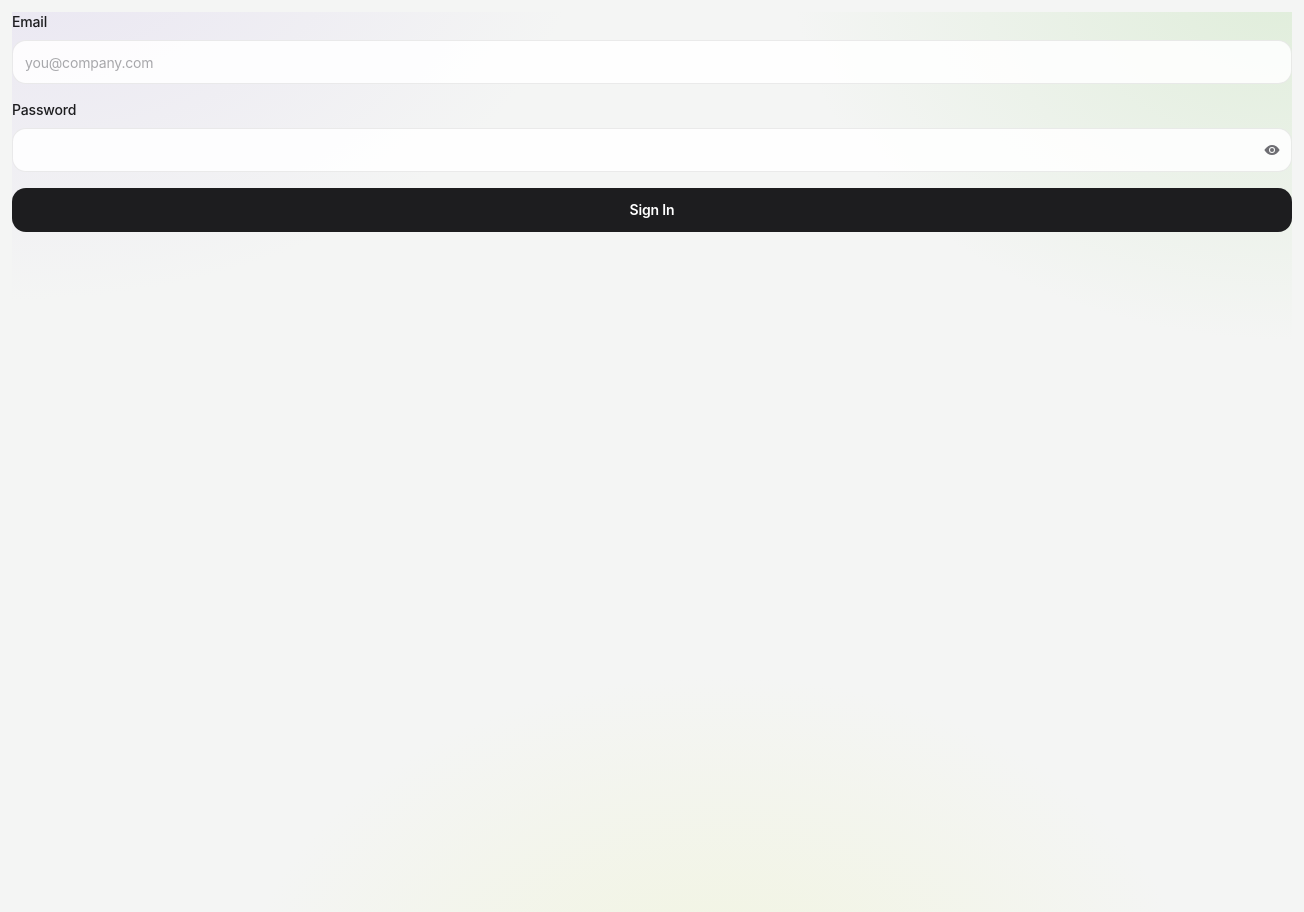
Scenario: LoginForm › signs in, stores the user in Redux and navigates to the dashboard
This screenshot has width=1304, height=912.
Type "a@b.com" into the field labelled "Email" at (652, 62), box [12, 40, 1292, 84]
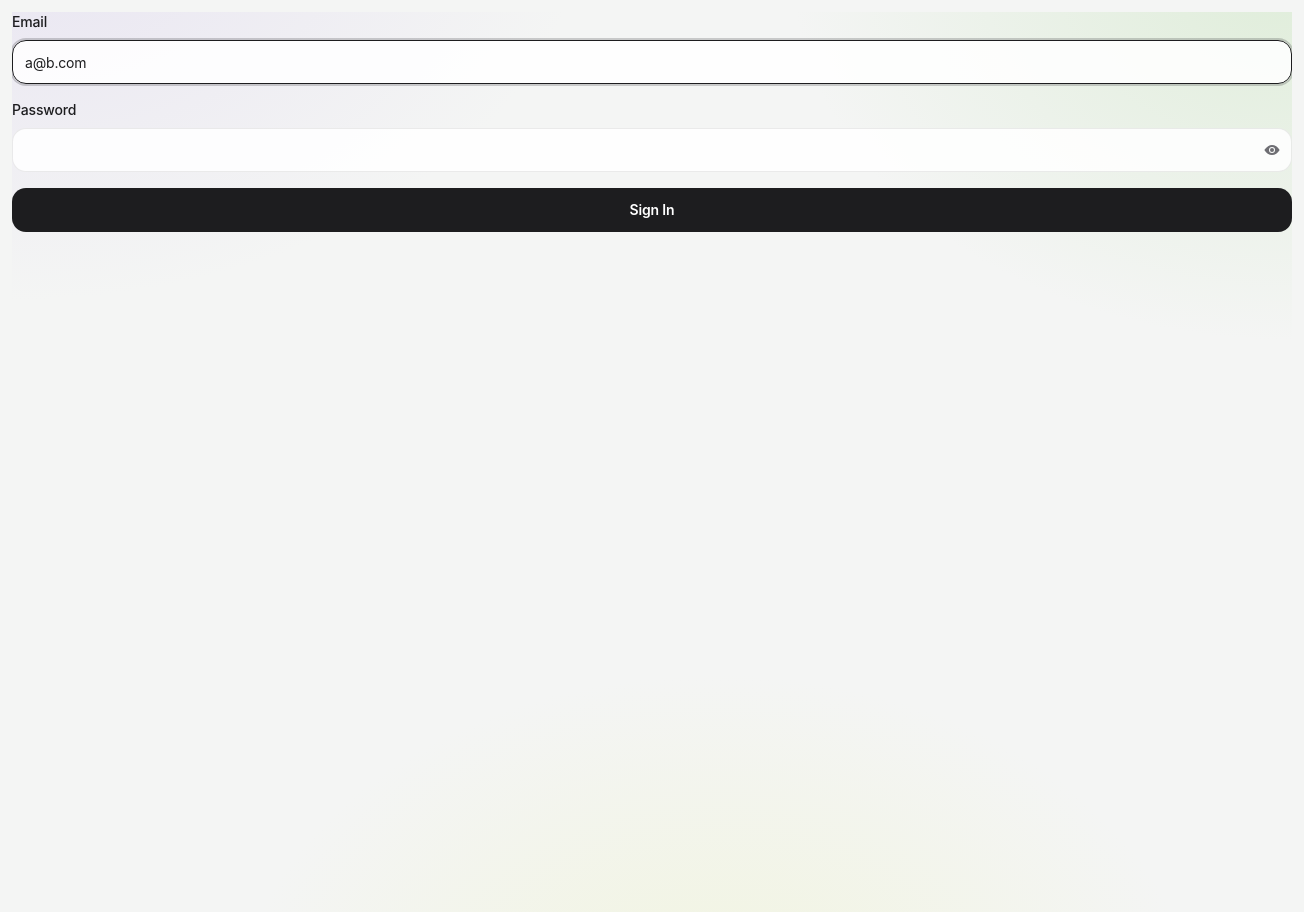
Type "secret123" into the password field labelled "Password" at (652, 150), box [12, 128, 1292, 172]
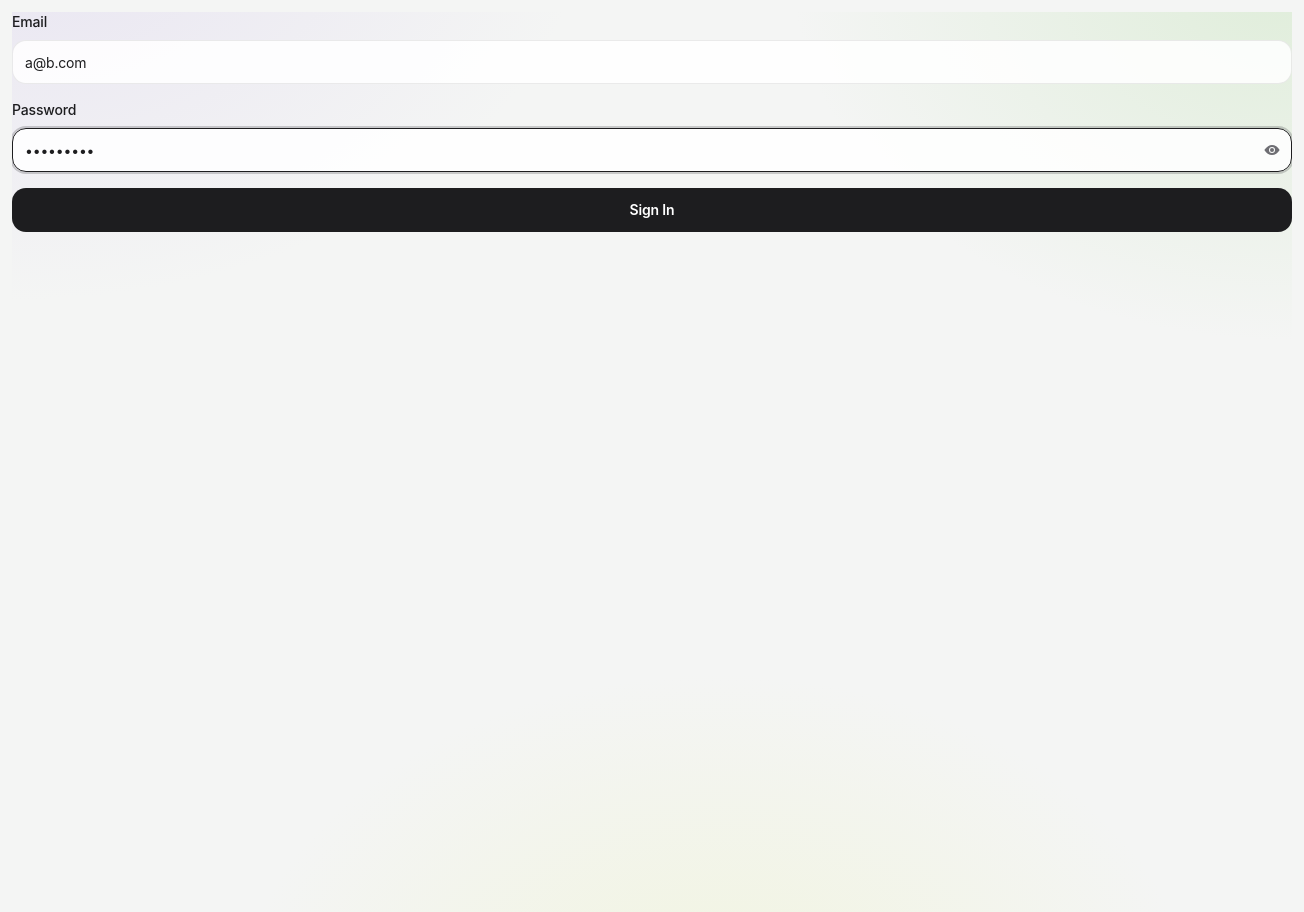
Click the button "Sign In" at (652, 210), box [12, 188, 1292, 232]
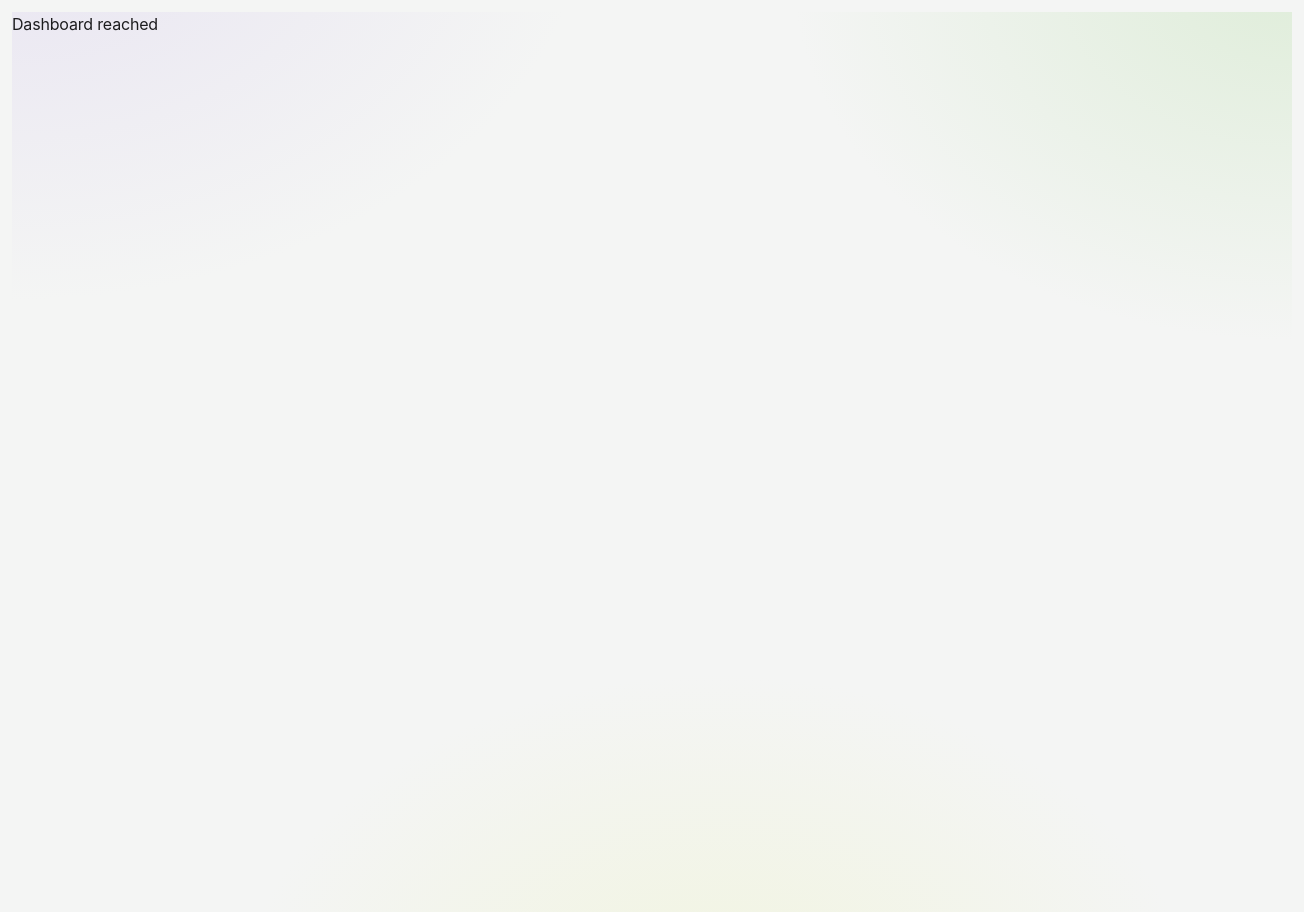
Result: the text "Dashboard reached" is shown at [12, 14, 158, 34]
